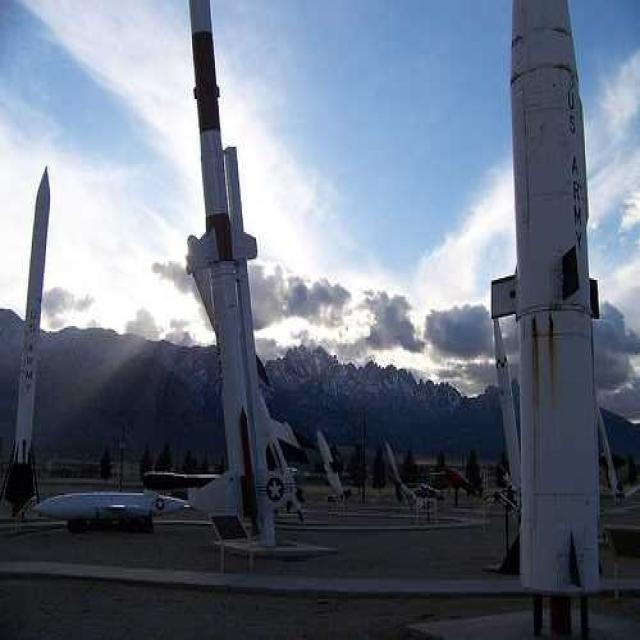missile: (180, 2, 306, 523), (504, 3, 604, 609), (10, 166, 52, 484)
